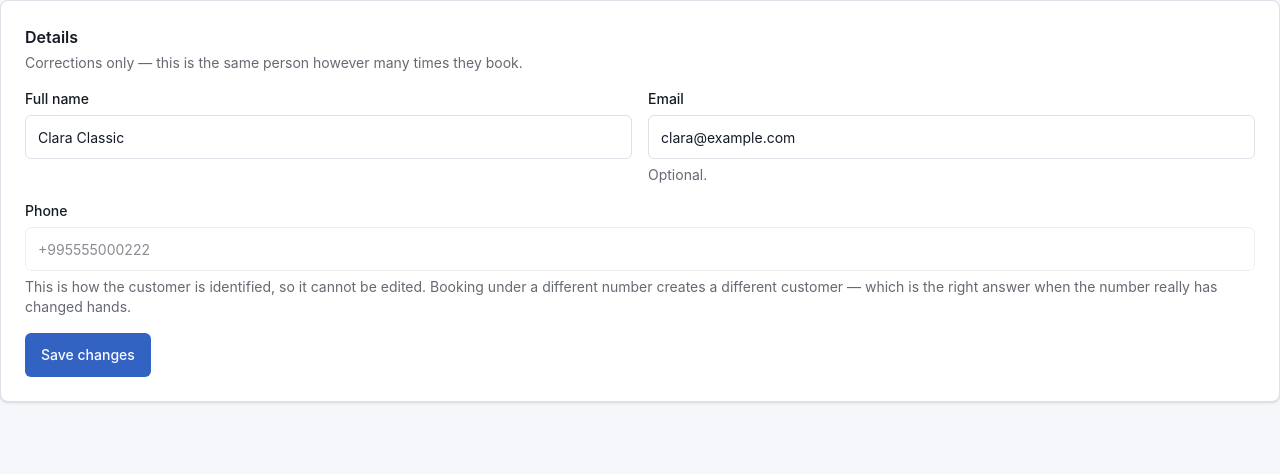
CustomerForm, refused › shows the server sentence when the refusal names no field
Replace the text in the field labelled "Full name" with "Clara Classical" at (328, 137), box [25,115,632,159]
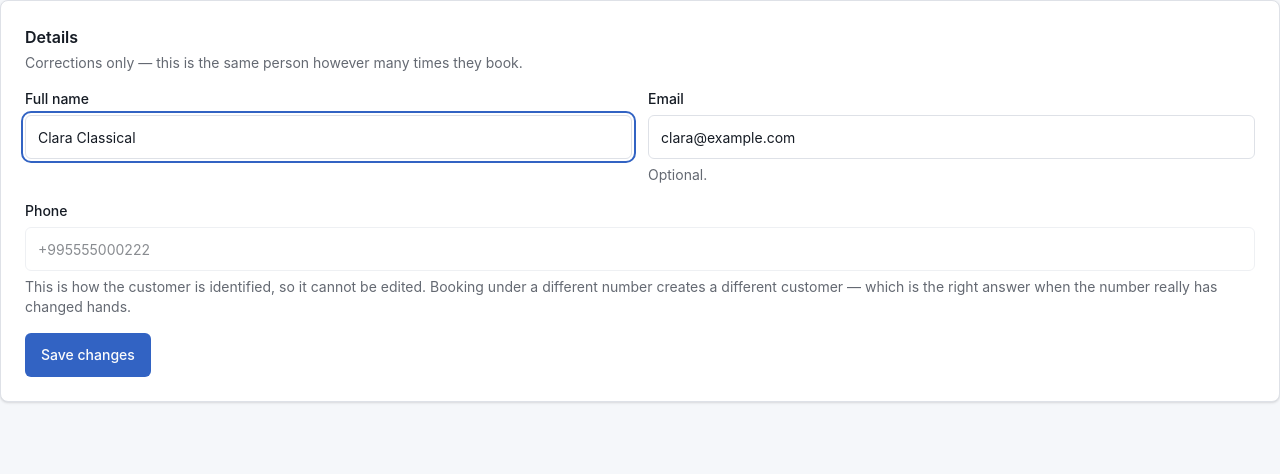
Click the button "Save changes" at (88, 355), box [25,333,151,377]
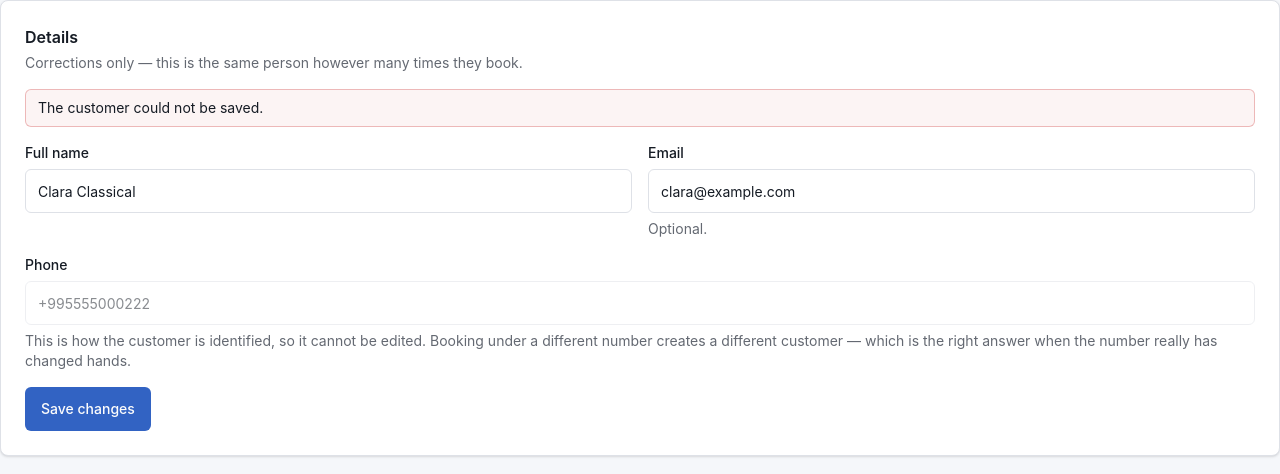
Expected: the message reads "The customer could not be saved.", [38,99,263,116]
